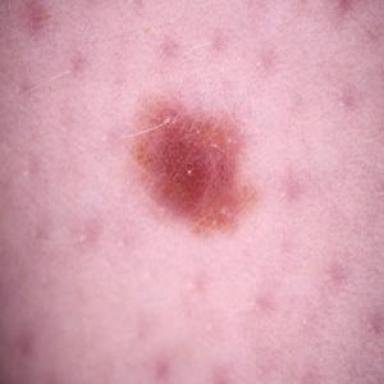Melanoma: (131, 97, 254, 233)
